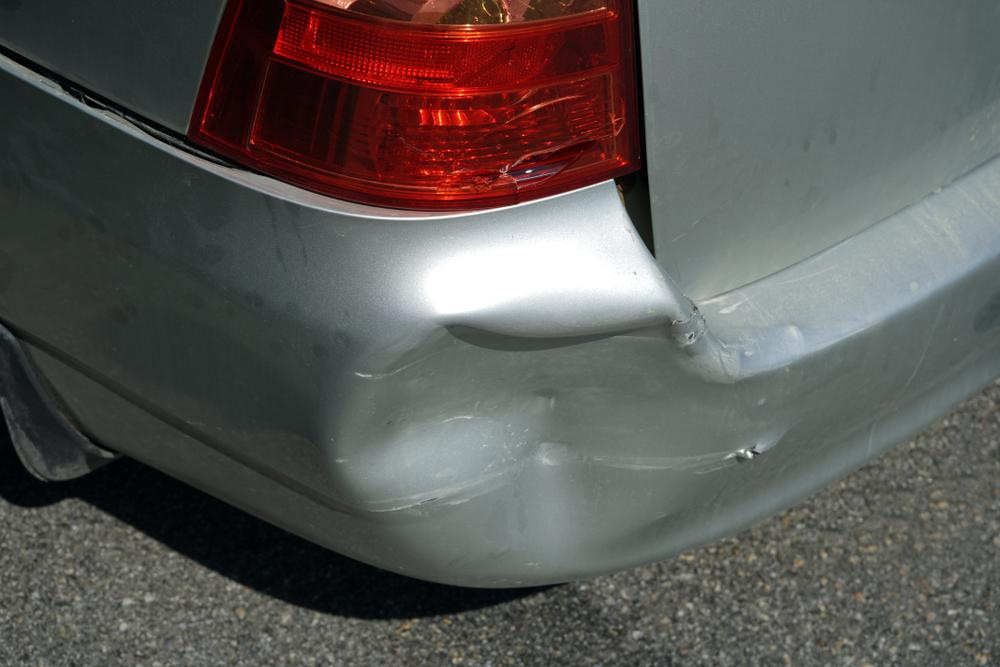dent: (337, 315, 735, 580)
lamp broken: (185, 0, 647, 212)
